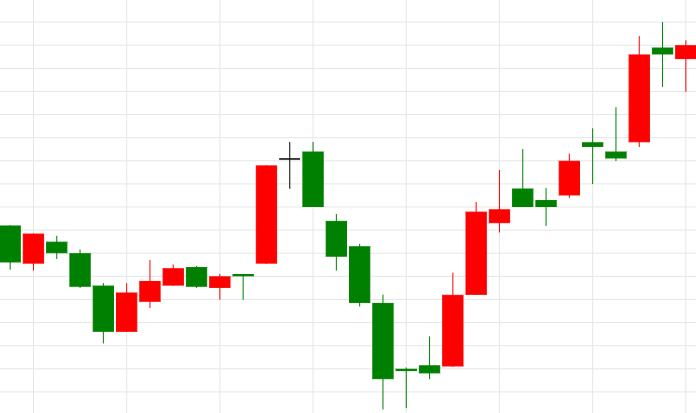three_black_crows_fall: (93, 140, 394, 409)
